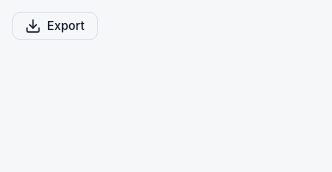
StudentExportActions — role-gated dropdown items › teacher NEVER sees CSV option, only PDF
This screenshot has width=332, height=172.
Step 1. Click the button "Export" → (55, 26), box [12, 12, 98, 40]
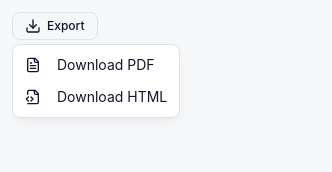
Check: the menu item "Download PDF" is shown, box [25, 56, 155, 73]
